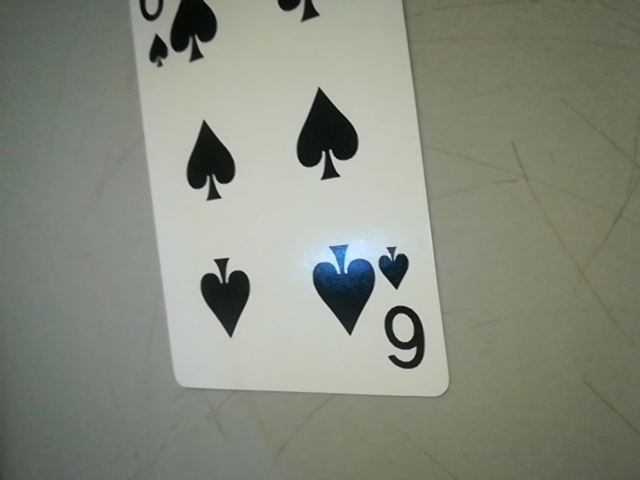ht 6: (373, 235, 439, 385)
